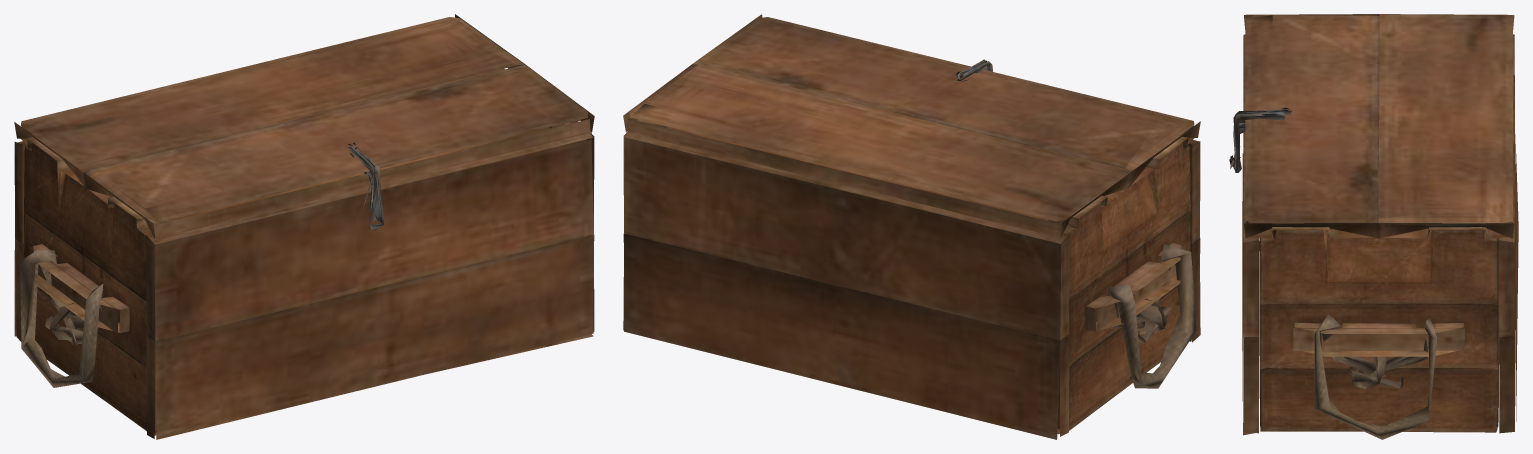
File: ph_wooden_crate_01.glb
3 renders of one model, left to right at view 1: azimuth 30°, elevation 25°; view 2: azimuth 150°, elevation 25°; view 3: azimuth 270°, elevation 25°, orthographic. The views are drawn at different scales.
Parts seen in each view (by area): view 1: wooden_crate_01_lid; view 2: wooden_crate_01_lid; view 3: wooden_crate_01_lid.
Boxes of the visible parts, left/top/right/bottom form: wooden_crate_01_lid: left=14, top=14, right=594, bottom=439; wooden_crate_01_lid: left=623, top=14, right=1200, bottom=439; wooden_crate_01_lid: left=1229, top=14, right=1518, bottom=439.
Size of the model in its own units: 0.8177 by 0.3506 by 0.4111.
1 material, 1 textured.
